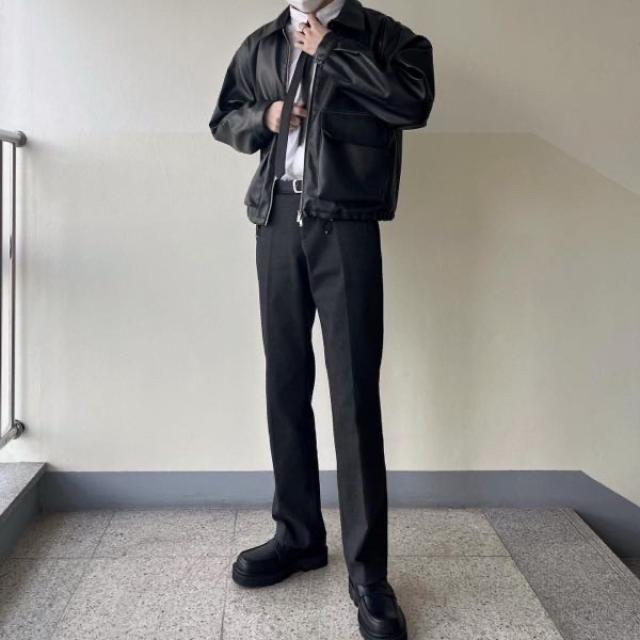jacket: (207, 2, 433, 223)
slacks: (261, 204, 396, 593)
